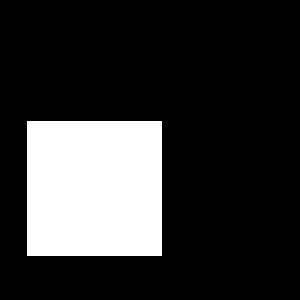circle: (27, 121, 162, 256)
